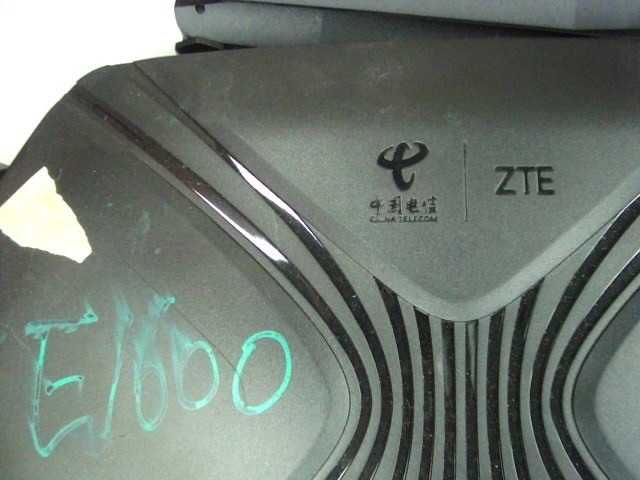AX_ZTEChinaTelecom: (356, 140, 560, 230)
